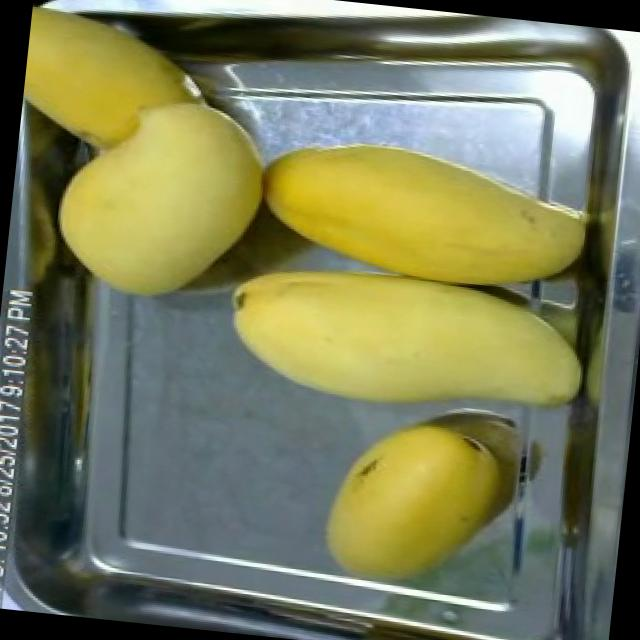fruit: (243, 115, 607, 306), (33, 59, 295, 323), (217, 255, 600, 434), (312, 404, 524, 600), (15, 0, 244, 181)
